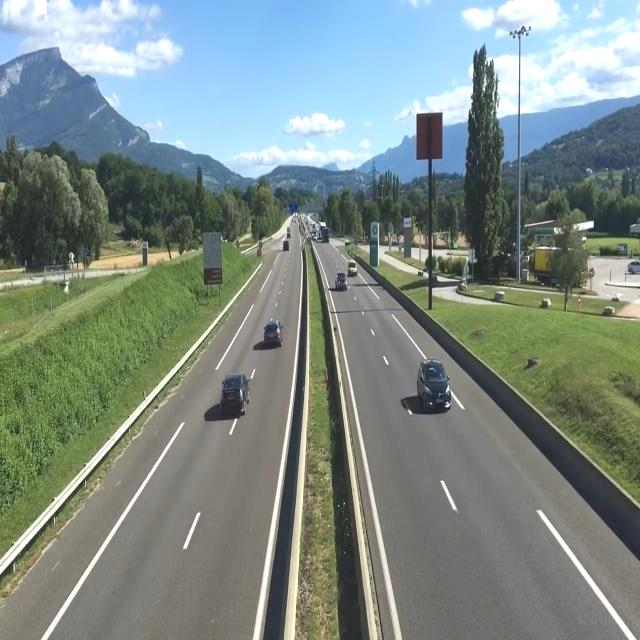Car: (417, 358, 452, 412), (222, 372, 250, 416), (263, 321, 283, 346), (334, 272, 348, 291), (627, 260, 640, 274)
Truck: (322, 228, 331, 242), (319, 222, 326, 238)
Van: (347, 259, 358, 276)
